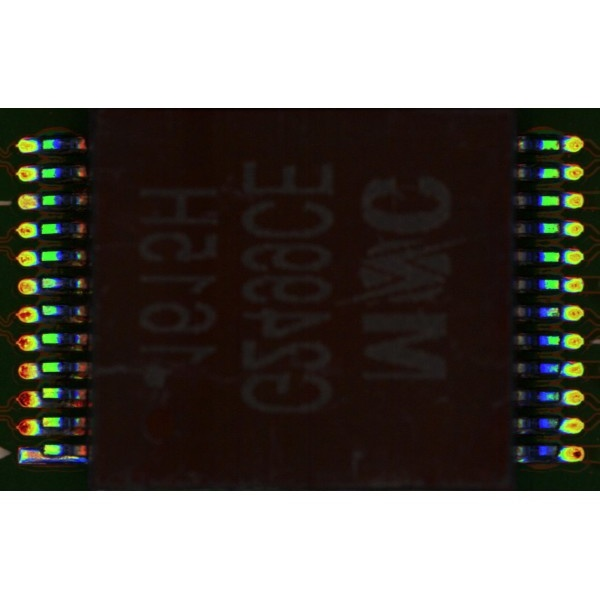Bad_qiaojiao: (42, 456, 87, 461)
